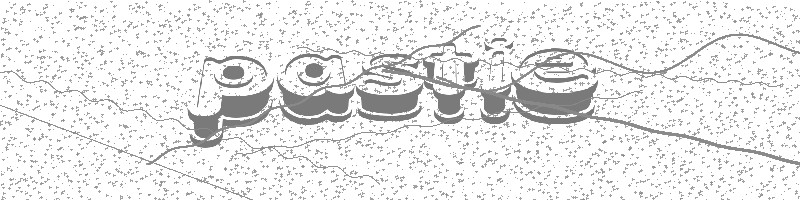a: (276, 50, 357, 127)
e: (511, 46, 600, 125)
i: (477, 36, 514, 125)
p: (185, 52, 276, 149)
s: (355, 48, 425, 121)
t: (423, 43, 477, 126)
